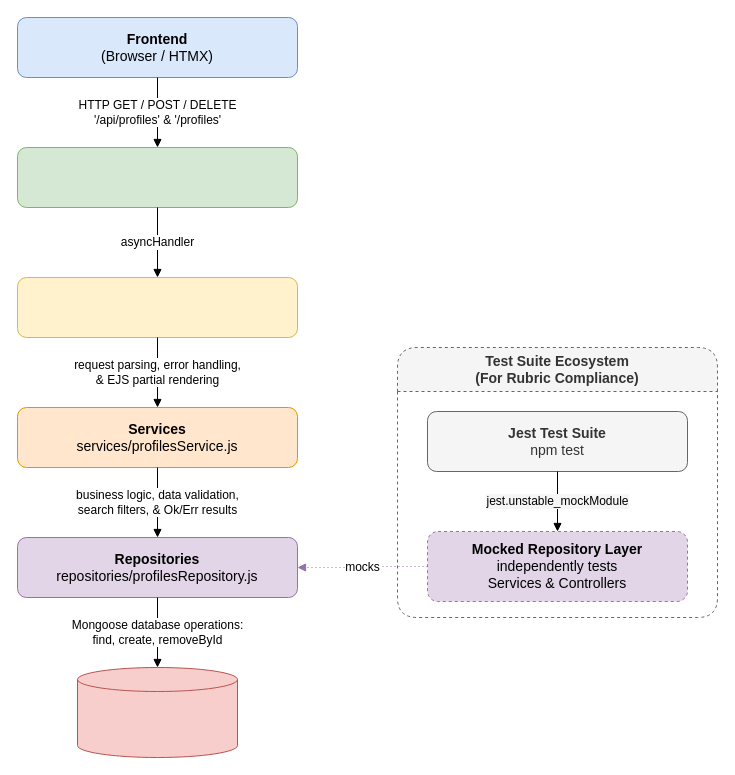
Some shapes in this 735 by 775 pixel diagram are drawn without their labels. The shapes that lost their labels are listed below. From the top down, each one's centre as x and y in pixels, then its label:
At (x=157, y=177): "Routes routes/profiles.js".
At (x=157, y=307): "Controllers controllers/profilesController.js".
At (x=157, y=712): "Database MongoDB via Docker".
